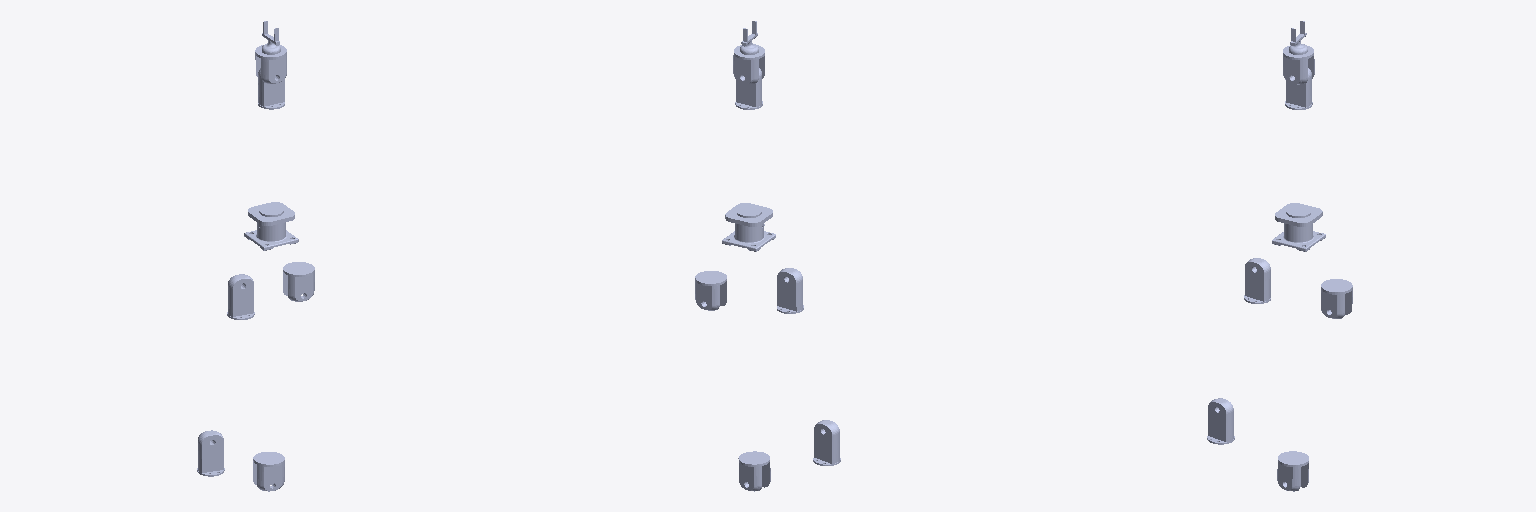
URDF robot description (brazo5_mesh):
<?xml version="1.0" encoding="utf-8"?>
<!-- This URDF was automatically created by SolidWorks to URDF Exporter! Originally created by Stephen Brawner ([email redacted]) 
     Commit Version: 1.5.1-0-g916b5db  Build Version: 1.5.7152.31018
     For more information, please see http://wiki.ros.org/sw_urdf_exporter -->
<robot
  name="brazo5_mesh">
  <link
    name="Base_link">
    <inertial>
      <origin
        xyz="0.080299 -0.21874 0.155"
        rpy="0 0 0" />
      <mass
        value="4.9777" />
      <inertia
        ixx="0.029645"
        ixy="1.1656E-08"
        ixz="-9.2377E-06"
        iyy="0.029622"
        iyz="4.9899E-05"
        izz="0.027618" />
    </inertial>
    <visual>
      <origin
        xyz="0 0 0"
        rpy="0 0 0" />
      <geometry>
        <mesh
          filename="package://brazo5_mesh/meshes/Base_link.STL" />
      </geometry>
      <material
        name="">
        <color
          rgba="0.79216 0.81961 0.93333 1" />
      </material>
    </visual>
    <collision>
      <origin
        xyz="0 0 0"
        rpy="0 0 0" />
      <geometry>
        <mesh
          filename="package://brazo5_mesh/meshes/Base_link.STL" />
      </geometry>
    </collision>
  </link>
  <link
    name="Link_1">
    <inertial>
      <origin
        xyz="-1.3784E-07 0.10821 -1.1787E-08"
        rpy="0 0 0" />
      <mass
        value="2.2449" />
      <inertia
        ixx="0.011433"
        ixy="-3.1937E-08"
        ixz="-0.00024162"
        iyy="0.0048827"
        iyz="-2.7311E-09"
        izz="0.014244" />
    </inertial>
    <visual>
      <origin
        xyz="0 0 0"
        rpy="0 0 0" />
      <geometry>
        <mesh
          filename="package://brazo5_mesh/meshes/Link_1.STL" />
      </geometry>
      <material
        name="">
        <color
          rgba="0.79216 0.81961 0.93333 1" />
      </material>
    </visual>
    <collision>
      <origin
        xyz="0 0 0"
        rpy="0 0 0" />
      <geometry>
        <mesh
          filename="package://brazo5_mesh/meshes/Link_1.STL" />
      </geometry>
    </collision>
  </link>
  <joint
    name="joint_1"
    type="revolute">
    <origin
      xyz="0.0803288541870932 -0.218852676235858 0.244159970479665"
      rpy="1.5707963267949 0 0.0855787996526472" />
    <parent
      link="Base_link" />
    <child
      link="Link_1" />
    <axis
      xyz="0 1 0" />
    <limit
      lower="0"
      upper="3.14"
      effort="30"
      velocity="1" />
  </joint>
  <link
    name="Link_2">
    <inertial>
      <origin
        xyz="5.3868E-05 0.064101 -0.00065583"
        rpy="0 0 0" />
      <mass
        value="2.0309" />
      <inertia
        ixx="0.011052"
        ixy="-5.7933E-07"
        ixz="0.00013195"
        iyy="0.0089388"
        iyz="5.1401E-06"
        izz="0.0095201" />
    </inertial>
    <visual>
      <origin
        xyz="0 0 0"
        rpy="0 0 0" />
      <geometry>
        <mesh
          filename="package://brazo5_mesh/meshes/Link_2.STL" />
      </geometry>
      <material
        name="">
        <color
          rgba="0.79216 0.81961 0.93333 1" />
      </material>
    </visual>
    <collision>
      <origin
        xyz="0 0 0"
        rpy="0 0 0" />
      <geometry>
        <mesh
          filename="package://brazo5_mesh/meshes/Link_2.STL" />
      </geometry>
    </collision>
  </link>
  <joint
    name="joint_2"
    type="revolute">
    <origin
      xyz="0 0.191993652090037 0"
      rpy="0.00899450915696164 0 0" />
    <parent
      link="Link_1" />
    <child
      link="Link_2" />
    <axis
      xyz="1 0 0" />
    <limit
      lower="0"
      upper="2.1"
      effort="30"
      velocity="1" />
  </joint>
  <link
    name="Link_3">
    <inertial>
      <origin
        xyz="0.00019058 0.10976 -0.0023013"
        rpy="0 0 0" />
      <mass
        value="2.2449" />
      <inertia
        ixx="0.01146"
        ixy="-1.0271E-05"
        ixz="-0.00036294"
        iyy="0.0048835"
        iyz="8.3447E-05"
        izz="0.014217" />
    </inertial>
    <visual>
      <origin
        xyz="0 0 0"
        rpy="0 0 0" />
      <geometry>
        <mesh
          filename="package://brazo5_mesh/meshes/Link_3.STL" />
      </geometry>
      <material
        name="">
        <color
          rgba="0.79216 0.81961 0.93333 1" />
      </material>
    </visual>
    <collision>
      <origin
        xyz="0 0 0"
        rpy="0 0 0" />
      <geometry>
        <mesh
          filename="package://brazo5_mesh/meshes/Link_3.STL" />
      </geometry>
    </collision>
  </link>
  <joint
    name="joint_3"
    type="revolute">
    <origin
      xyz="8.36659363316339E-05 0.13929174808307 0"
      rpy="0 0.02173873168945 0" />
    <parent
      link="Link_2" />
    <child
      link="Link_3" />
    <axis
      xyz="0.182306975432547 0.862878889887777 0.471385392322116" />
    <limit
      lower="0"
      upper="3.14"
      effort="30"
      velocity="1" />
  </joint>
  <link
    name="Link_4">
    <inertial>
      <origin
        xyz="0.000301772320541169 0.0641364026998474 -0.00271583843050602"
        rpy="0 0 0" />
      <mass
        value="2.03094108037898" />
      <inertia
        ixx="0.0110376095874153"
        ixy="-1.85661893577593E-06"
        ixz="0.000198093009878208"
        iyy="0.00893880064031379"
        iyz="-3.84506003731267E-06"
        izz="0.0095345476748533" />
    </inertial>
    <visual>
      <origin
        xyz="0 0 0"
        rpy="0 0 0" />
      <geometry>
        <mesh
          filename="package://brazo5_mesh/meshes/Link_4.STL" />
      </geometry>
      <material
        name="">
        <color
          rgba="0.792156862745098 0.819607843137255 0.933333333333333 1" />
      </material>
    </visual>
    <collision>
      <origin
        xyz="0 0 0"
        rpy="0 0 0" />
      <geometry>
        <mesh
          filename="package://brazo5_mesh/meshes/Link_4.STL" />
      </geometry>
    </collision>
  </link>
  <joint
    name="joint_4"
    type="revolute">
    <origin
      xyz="0 0.193546128081153 0"
      rpy="-0.0154686932702138 0 0" />
    <parent
      link="Link_3" />
    <child
      link="Link_4" />
    <axis
      xyz="1 0 0" />
    <limit
      lower="0"
      upper="2"
      effort="30"
      velocity="1" />
  </joint>
  <link
    name="Link_5">
    <inertial>
      <origin
        xyz="0.00024002 0.10815 -0.0015255"
        rpy="0 0 0" />
      <mass
        value="2.2449" />
      <inertia
        ixx="0.011444"
        ixy="-1.4385E-06"
        ixz="-0.00029588"
        iyy="0.0048831"
        iyz="-6.026E-05"
        izz="0.014233" />
    </inertial>
    <visual>
      <origin
        xyz="0 0 0"
        rpy="0 0 0" />
      <geometry>
        <mesh
          filename="package://brazo5_mesh/meshes/Link_5.STL" />
      </geometry>
      <material
        name="">
        <color
          rgba="0.79216 0.81961 0.93333 1" />
      </material>
    </visual>
    <collision>
      <origin
        xyz="0 0 0"
        rpy="0 0 0" />
      <geometry>
        <mesh
          filename="package://brazo5_mesh/meshes/Link_5.STL" />
      </geometry>
    </collision>
  </link>
  <joint
    name="joint_5"
    type="revolute">
    <origin
      xyz="8.36659363318976E-05 0.140932089805393 0"
      rpy="0 -0.0296556356151198 0" />
    <parent
      link="Link_4" />
    <child
      link="Link_5" />
    <axis
      xyz="-0.016574075526202 0.999861646182373 -0.00141014677473222" />
    <limit
      lower="0"
      upper="3.14"
      effort="30"
      velocity="1" />
  </joint>
  <link
    name="Link_6">
    <inertial>
      <origin
        xyz="0.00079059 0.082851 0.0019569"
        rpy="0 0 0" />
      <mass
        value="2.4359" />
      <inertia
        ixx="0.011962"
        ixy="-3.3662E-05"
        ixz="0.00016658"
        iyy="0.0095618"
        iyz="-1.0248E-05"
        izz="0.010201" />
    </inertial>
    <visual>
      <origin
        xyz="0 0 0"
        rpy="0 0 0" />
      <geometry>
        <mesh
          filename="package://brazo5_mesh/meshes/Link_6.STL" />
      </geometry>
      <material
        name="">
        <color
          rgba="0.79216 0.81961 0.93333 1" />
      </material>
    </visual>
    <collision>
      <origin
        xyz="0 0 0"
        rpy="0 0 0" />
      <geometry>
        <mesh
          filename="package://brazo5_mesh/meshes/Link_6.STL" />
      </geometry>
    </collision>
  </link>
  <joint
    name="joint_6"
    type="revolute">
    <origin
      xyz="0 0.19191 0"
      rpy="3.1238 0 -3.1416" />
    <parent
      link="Link_5" />
    <child
      link="Link_6" />
    <axis
      xyz="1 0 0" />
    <limit
      lower="0"
      upper="2"
      effort="30"
      velocity="1" />
  </joint>
</robot>

--- Render facts (derived) ---
The picture shows the robot from 3 angles, left to right: view 1: azimuth 30°, elevation 25°; view 2: azimuth 150°, elevation 25°; view 3: azimuth 330°, elevation 25°; orthographic projection.
Robot: brazo5_mesh — 7 links, 6 joints (6 revolute); root link Base_link; default pose: all joints at 0.
Links seen in each view (by area): view 1: Base_link, Link_6, Link_4, Link_2, Link_1, Link_3, Link_5; view 2: Base_link, Link_6, Link_4, Link_2, Link_1, Link_3, Link_5; view 3: Base_link, Link_6, Link_4, Link_2, Link_1, Link_3, Link_5.
Link boxes in pixels (x1,y1,x2,y2): Base_link: (244,202,298,250); Link_6: (255,21,286,83); Link_4: (283,262,314,301); Link_2: (253,452,284,491); Link_1: (197,430,224,476); Link_3: (227,274,254,319); Link_5: (258,68,284,109); Base_link: (722,203,775,251); Link_6: (733,21,764,83); Link_4: (695,271,726,310); Link_2: (738,451,770,491); Link_1: (813,420,840,465); Link_3: (777,268,803,313); Link_5: (735,68,762,109); Base_link: (1272,203,1325,251); Link_6: (1283,21,1314,84); Link_4: (1321,279,1352,318); Link_2: (1277,451,1308,491); Link_1: (1207,398,1234,444); Link_3: (1244,258,1270,303); Link_5: (1285,68,1312,109).
Size in the robot's own frame: 0.8341 by 0.3222 by 2.89 metres.
Meshes: 7 distinct files referenced, 7 mesh visuals loaded (7 binary STL).
